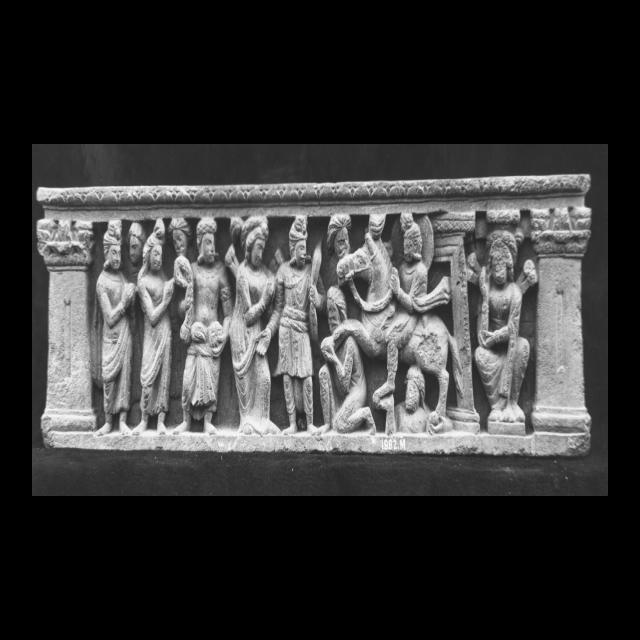buddha-horse-riding: (321, 211, 464, 433)
